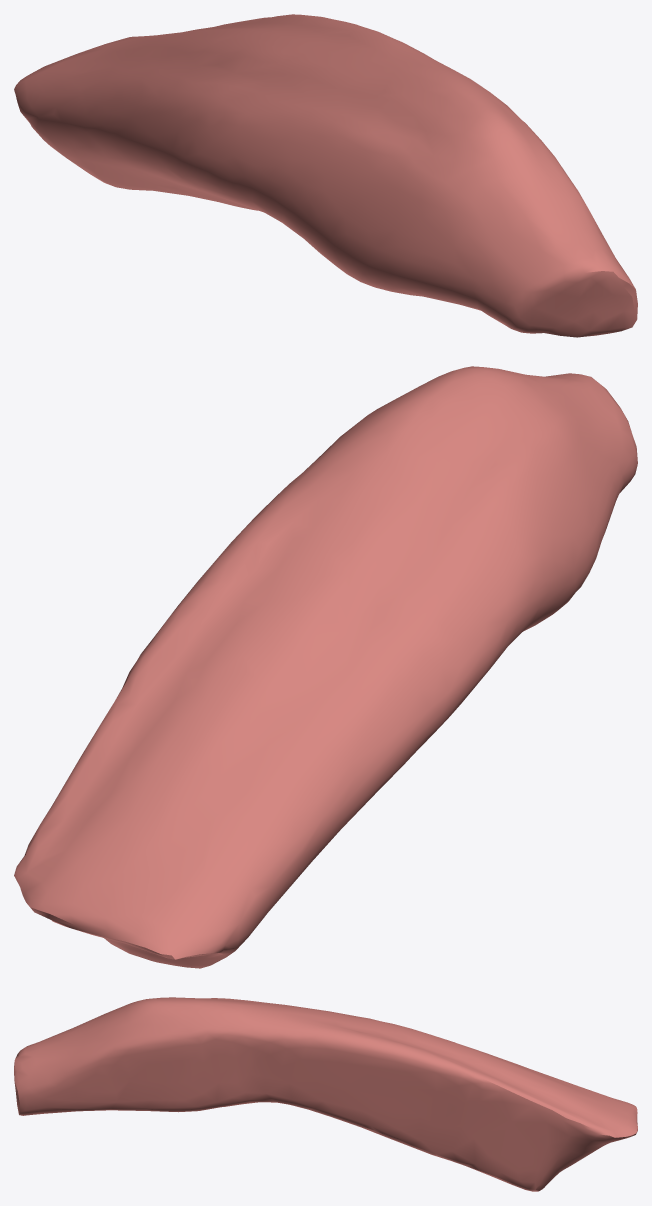
The model's file is fma46326_mm1132m.glb.
3 renders of one model, top to bottom at view 1: azimuth 30°, elevation 25°; view 2: azimuth 150°, elevation 25°; view 3: azimuth 270°, elevation 25°, orthographic. The views are drawn at different scales.
Parts seen in each view (by area): view 1: FMA46326_MM1132M; view 2: FMA46326_MM1132M; view 3: FMA46326_MM1132M.
Part boxes in pixels (left/top/right/bottom): FMA46326_MM1132M: left=14, top=14, right=637, bottom=337; FMA46326_MM1132M: left=14, top=366, right=637, bottom=968; FMA46326_MM1132M: left=14, top=997, right=637, bottom=1191.
Size of the model in its own units: 0.00737 by 0.00998 by 0.0302.
